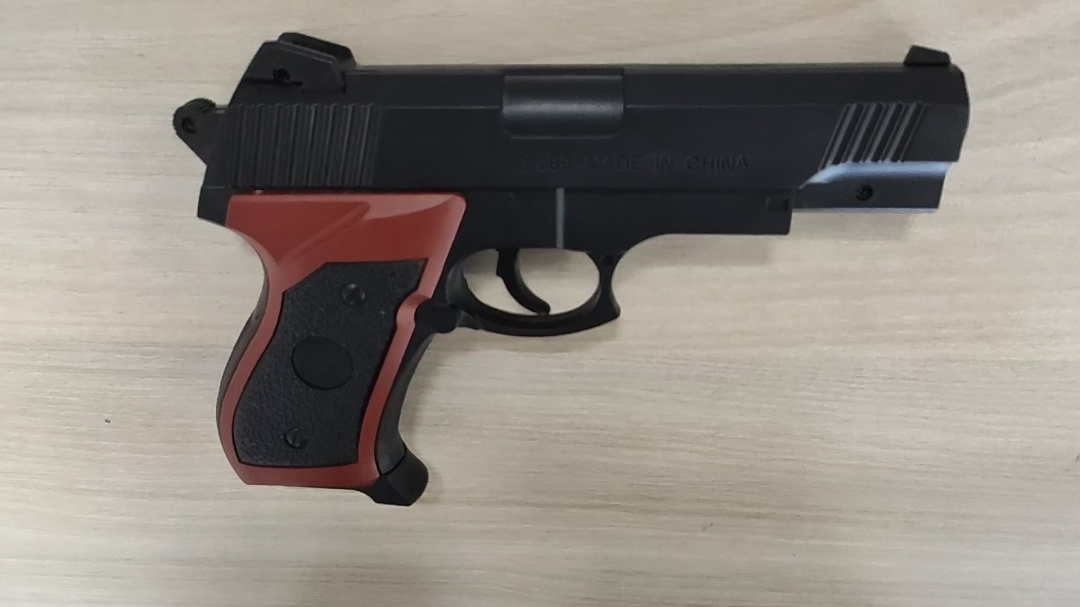gun: (167, 27, 978, 514)
